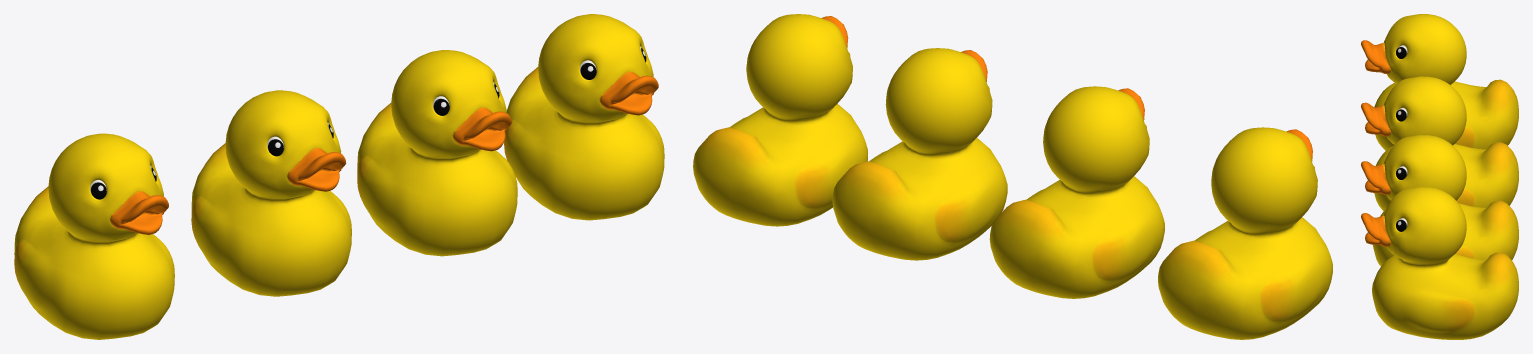
File: notaduck.glb
The picture shows the model from 3 angles, left to right: view 1: azimuth 30°, elevation 25°; view 2: azimuth 150°, elevation 25°; view 3: azimuth 270°, elevation 25°; orthographic projection. The views are drawn at different scales.
Visible parts, largest first — view 1: notaduck.001, notaduck.003, notaduck, notaduck.002; view 2: notaduck.003, notaduck.001, notaduck, notaduck.002; view 3: notaduck.002, notaduck.003, notaduck.001, notaduck.
Boxes of the visible parts, x1,y1,x2,y2 form: notaduck.001: (191,90,351,296); notaduck.003: (14,133,174,339); notaduck: (357,50,517,256); notaduck.002: (504,14,664,220); notaduck.003: (1158,127,1332,339); notaduck.001: (989,86,1164,298); notaduck: (832,48,1007,260); notaduck.002: (693,14,867,226); notaduck.002: (1361,186,1518,339); notaduck.003: (1361,14,1518,150); notaduck.001: (1361,76,1518,211); notaduck: (1361,135,1518,266).
Size of the model in its own units: 0.5475 by 0.154 by 0.1663.
Materials: 1 (1 with a texture image).
